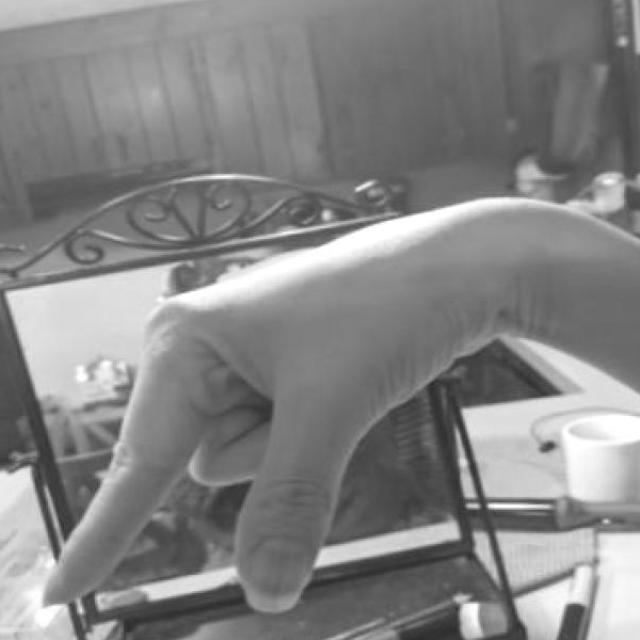Q: (25, 238, 490, 638)
